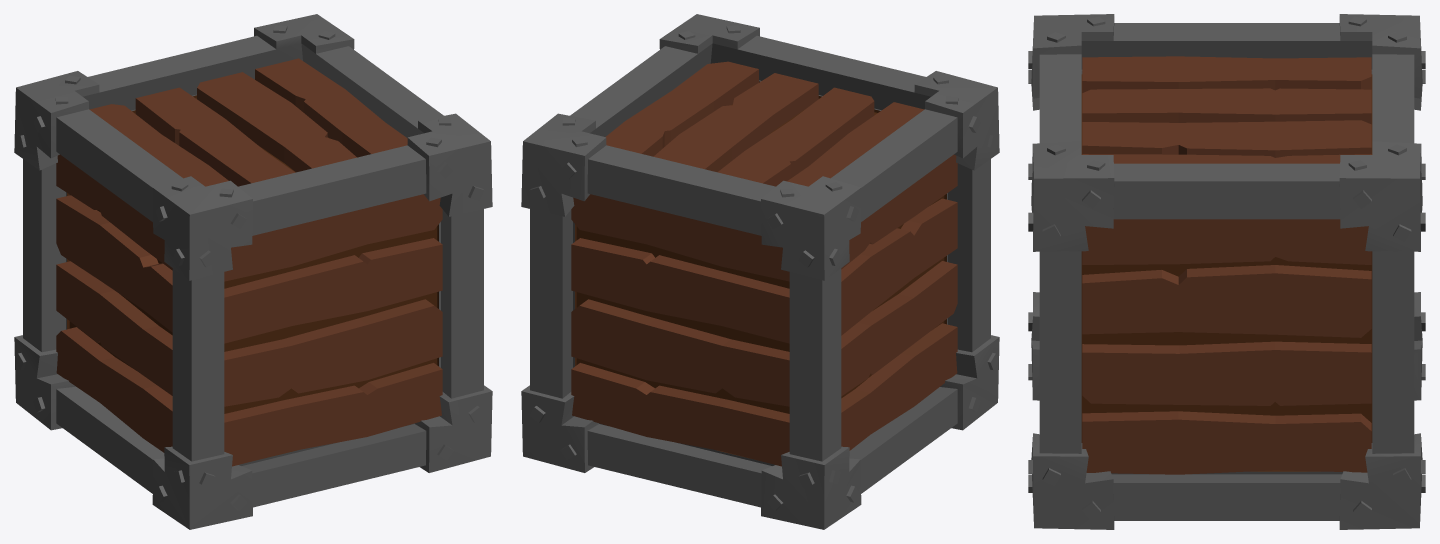
Rendered from low-poly_wooden_box_prop.glb.
The picture shows the model from 3 angles, left to right: view 1: azimuth 30°, elevation 25°; view 2: azimuth 150°, elevation 25°; view 3: azimuth 270°, elevation 25°; orthographic projection. The views are drawn at different scales.
Parts seen in each view (by area): view 1: Hierro_2, Tablas_3, madera fondo_4; view 2: Hierro_2, Tablas_3, madera fondo_4; view 3: Tablas_3, Hierro_2, madera fondo_4.
Part boxes in pixels (x1=…): Hierro_2: x1=14, y1=14, x2=492, y2=529; Tablas_3: x1=56, y1=58, x2=442, y2=466; madera fondo_4: x1=67, y1=95, x2=438, y2=458; Hierro_2: x1=521, y1=14, x2=999, y2=529; Tablas_3: x1=571, y1=61, x2=957, y2=466; madera fondo_4: x1=575, y1=81, x2=946, y2=458; Tablas_3: x1=1082, y1=56, x2=1371, y2=474; Hierro_2: x1=1028, y1=14, x2=1425, y2=529; madera fondo_4: x1=1081, y1=74, x2=1372, y2=471.
Size of the model in its own units: 2.12 by 2.12 by 2.12.
